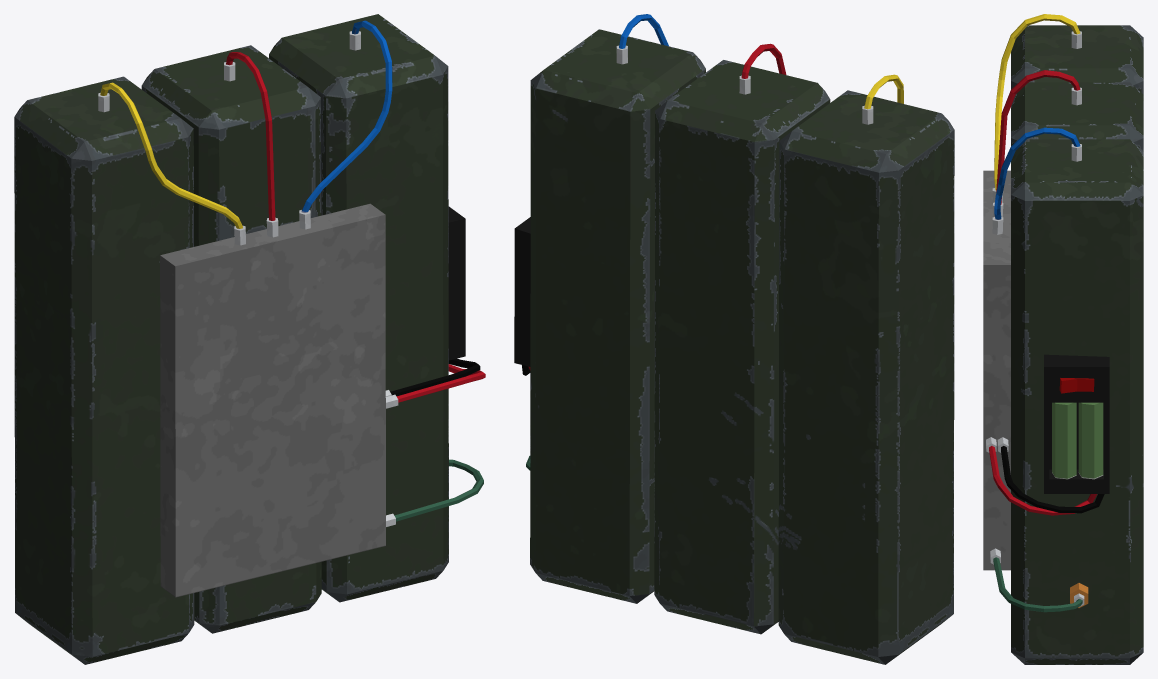
File: C4_pickup.fbx
3 renders of one model, left to right at view 1: azimuth 30°, elevation 25°; view 2: azimuth 150°, elevation 25°; view 3: azimuth 270°, elevation 25°, orthographic. The views are drawn at different scales.
Visible parts, largest first — view 1: C4 no tape; view 2: C4 no tape; view 3: C4 no tape.
Boxes of the visible parts, bbox=[...] form: C4 no tape: bbox=[14, 14, 485, 664]; C4 no tape: bbox=[514, 14, 954, 664]; C4 no tape: bbox=[983, 14, 1143, 664].
Bounding box in the file's own units: 18.47 × 23.57 × 6.67.
Materials: 1 (1 with a texture image).
